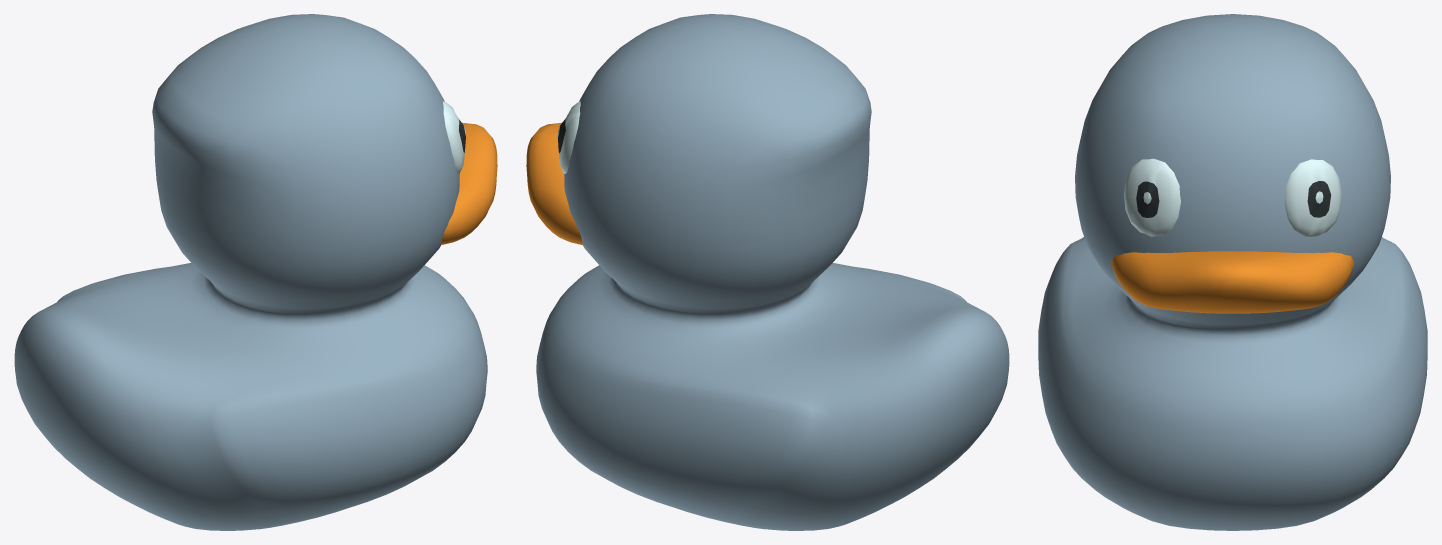
File: Rubber Ducky Gray.fbx
The picture shows the model from 3 angles, left to right: view 1: azimuth 30°, elevation 25°; view 2: azimuth 150°, elevation 25°; view 3: azimuth 270°, elevation 25°; orthographic projection. The views are drawn at different scales.
Parts seen in each view (by area): view 1: Rubber_Duck; view 2: Rubber_Duck; view 3: Rubber_Duck.
Boxes of the visible parts, bbox=[...] form: Rubber_Duck: bbox=[14, 14, 497, 530]; Rubber_Duck: bbox=[526, 14, 1009, 530]; Rubber_Duck: bbox=[1038, 14, 1427, 530].
Bounding box in the file's own units: 8.53 × 8.27 × 6.1.
Materials: 1 (1 with a texture image).
